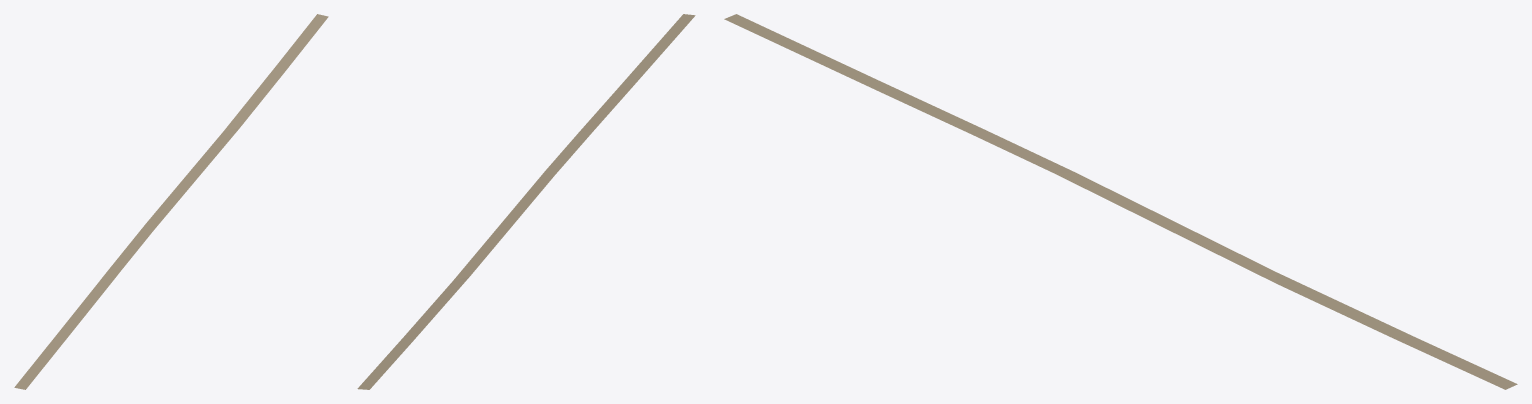
File: farm_-21_-24_track.glb
3 views of the same model, side by side, from view 1: azimuth 30°, elevation 25°; view 2: azimuth 210°, elevation 25°; view 3: azimuth 270°, elevation 25° (orthographic). The views are drawn at different scales.
Visible parts, largest first — view 1: geometry_0; view 2: geometry_0; view 3: geometry_0.
Part boxes in pixels (x1,y1,x2,y2): geometry_0: (14,14,328,389); geometry_0: (357,14,695,389); geometry_0: (724,14,1517,389).
Bounding box in the file's own units: 186 × 3.91 × 159.
